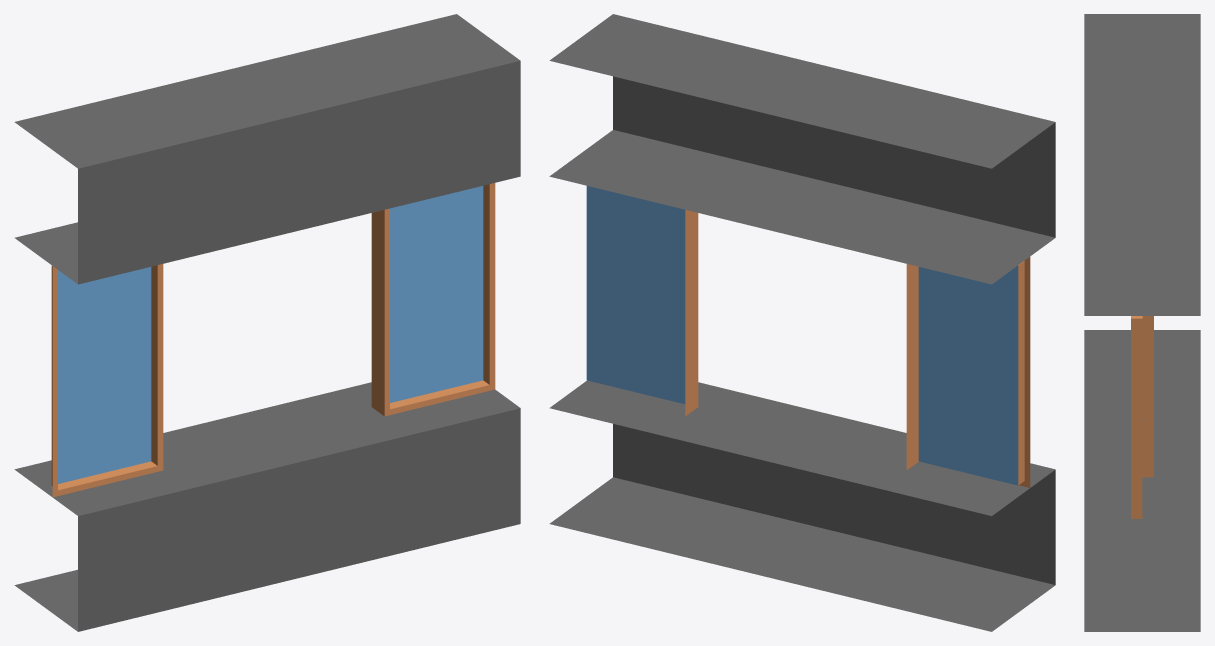
Rendered from factory_wall_window_open.fbx.
3 views of the same model, side by side, from view 1: azimuth 30°, elevation 25°; view 2: azimuth 150°, elevation 25°; view 3: azimuth 270°, elevation 25° (orthographic). The views are drawn at different scales.
Parts seen in each view (by area): view 1: factory_wall_window_open; view 2: factory_wall_window_open; view 3: factory_wall_window_open.
Boxes of the visible parts, box(x1,y1,x2,y2) form: factory_wall_window_open: box(14, 14, 520, 631); factory_wall_window_open: box(549, 14, 1055, 631); factory_wall_window_open: box(1084, 14, 1200, 631).
Size of the model in its own units: 400 by 400 by 100.
